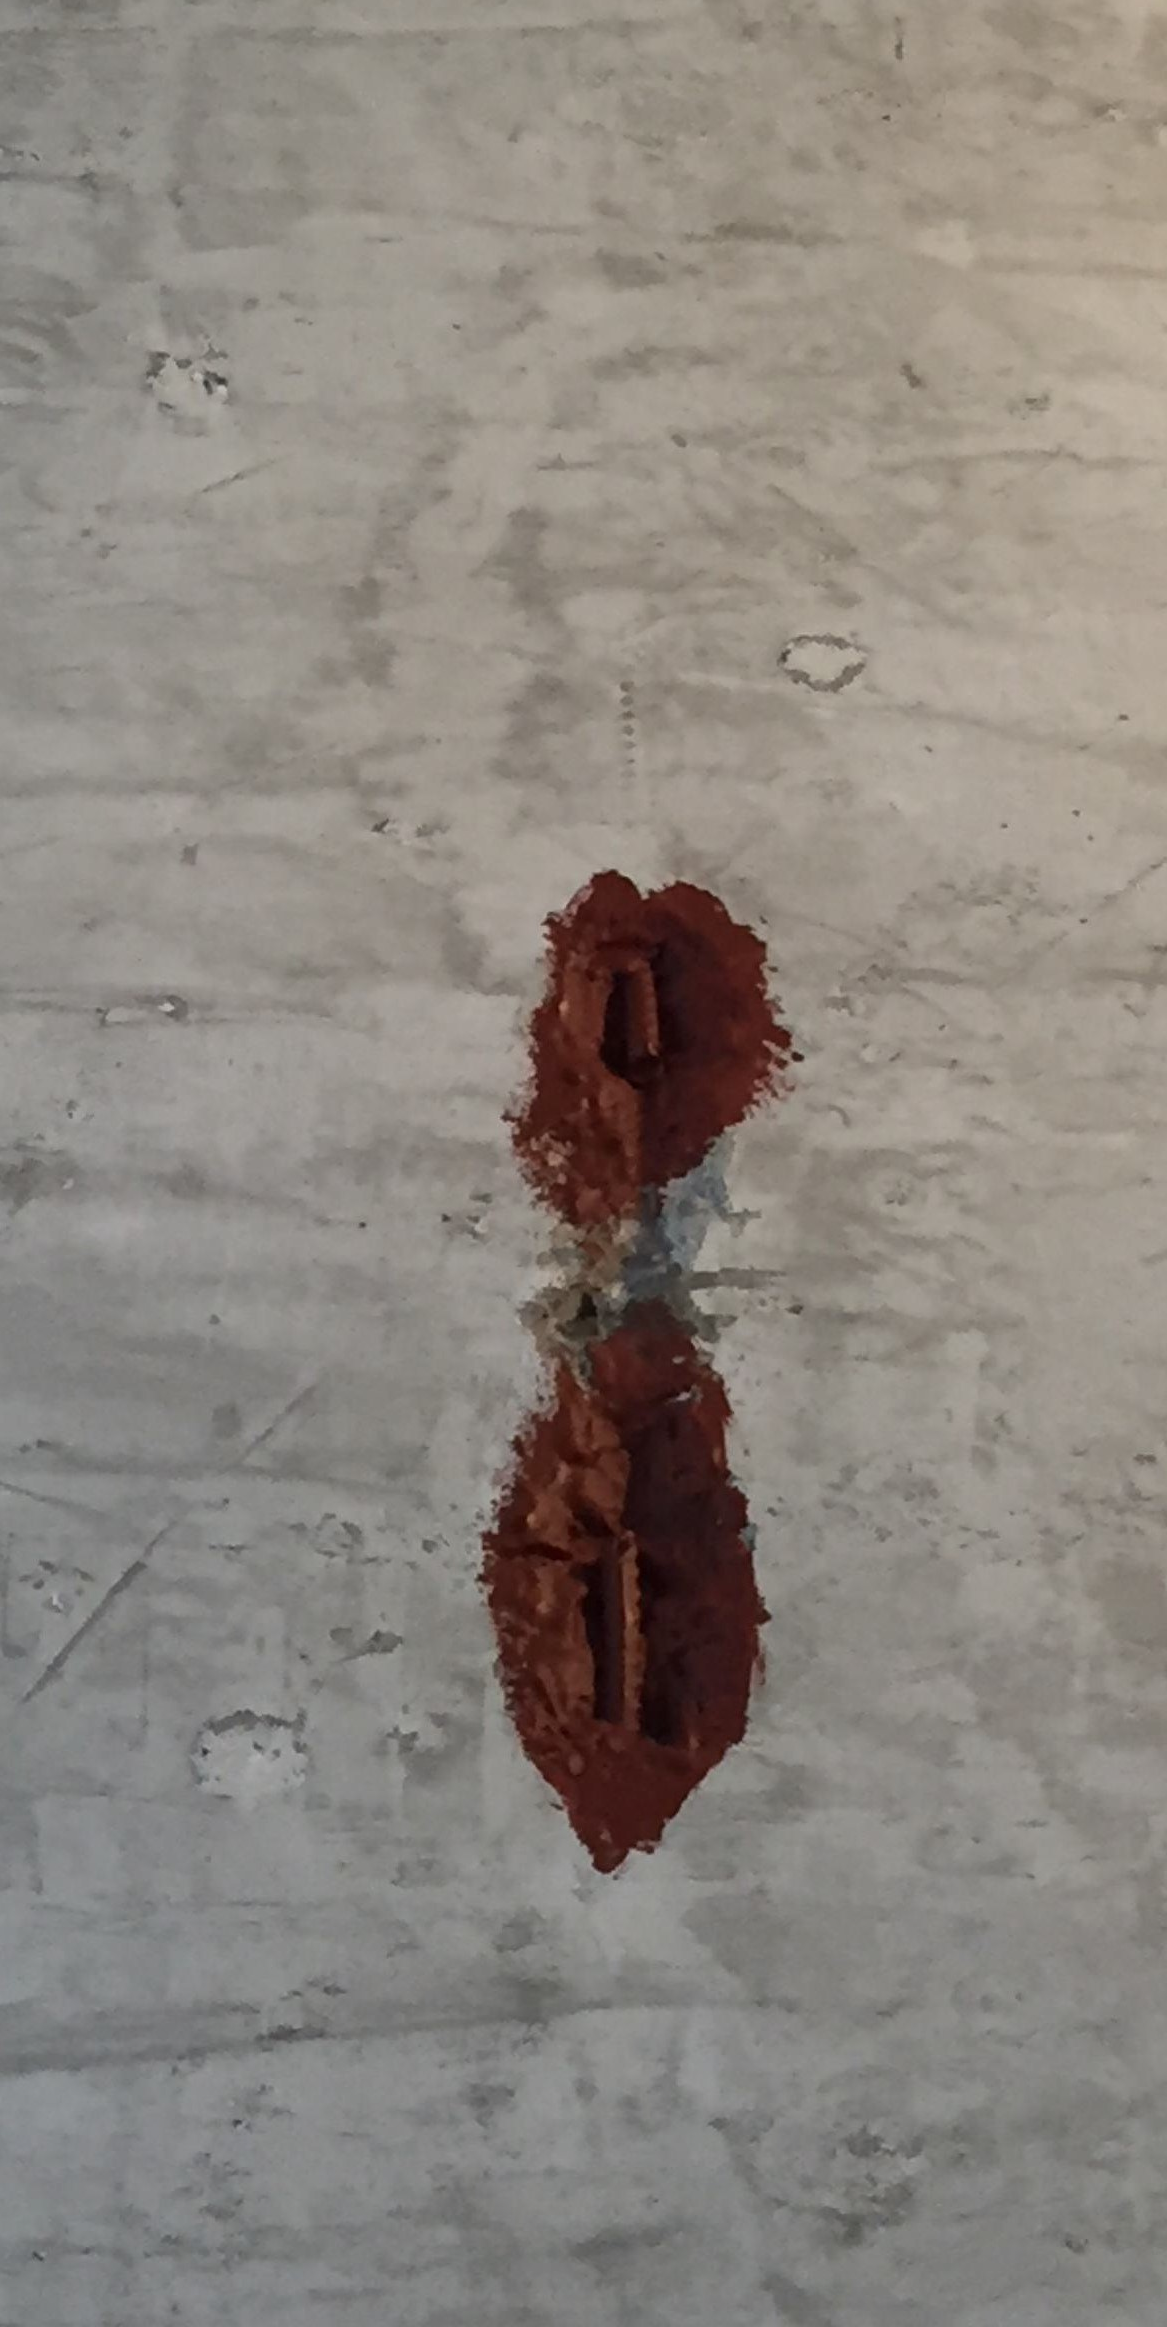Corrosion: (475, 1294, 776, 1875), (502, 867, 805, 1235)
Exposed reinforcement: (604, 1528, 648, 1730), (622, 957, 661, 1062)
